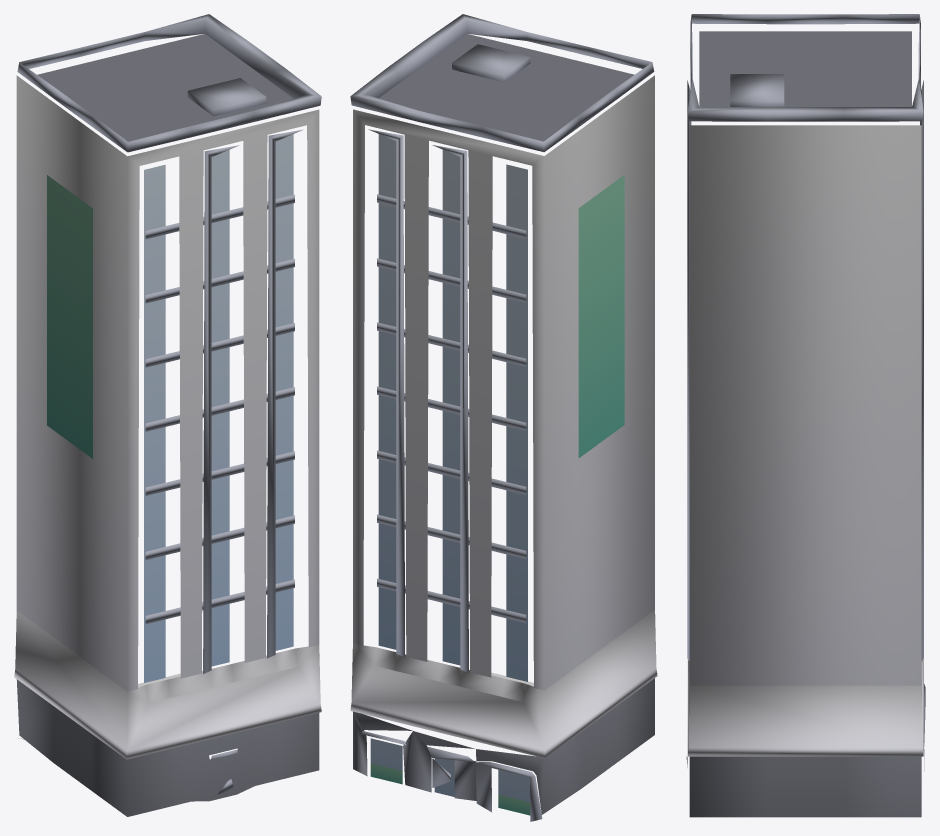
3 renders of one model, left to right at view 1: azimuth 30°, elevation 25°; view 2: azimuth 150°, elevation 25°; view 3: azimuth 270°, elevation 25°, orthographic. The views are drawn at different scales.
Size of the model in its own units: 10.2 by 32.64 by 9.89.
